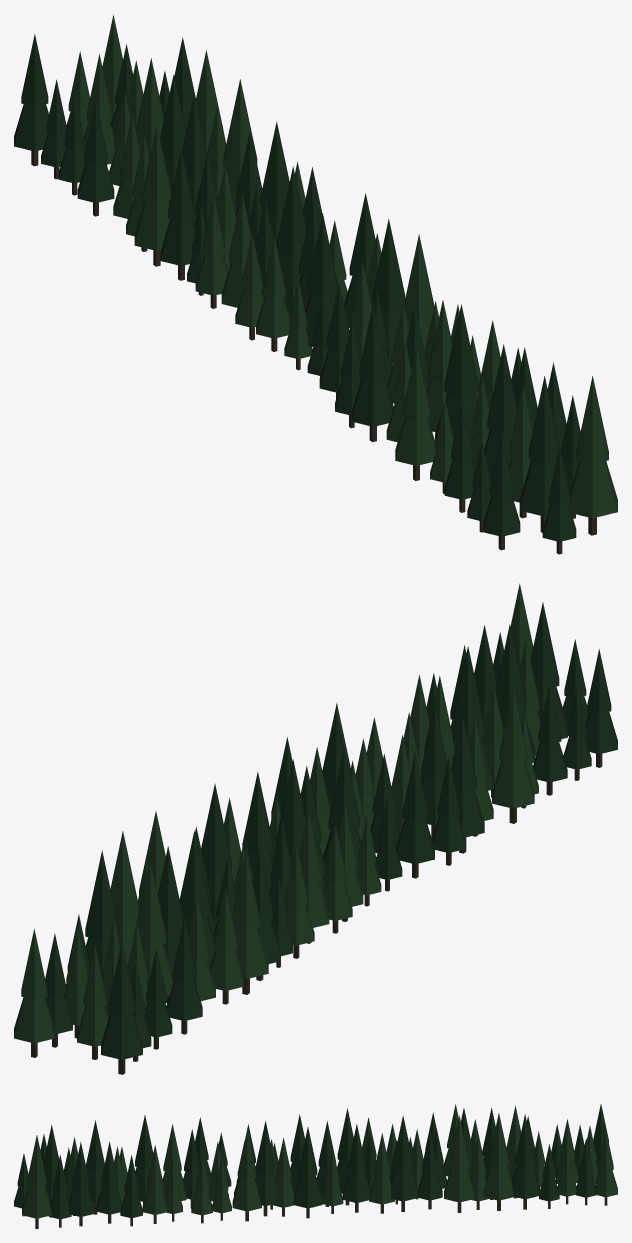
Rendered from forest_edge_15.glb.
3 renders of one model, top to bottom at view 1: azimuth 30°, elevation 25°; view 2: azimuth 150°, elevation 25°; view 3: azimuth 270°, elevation 25°, orthographic. The views are drawn at different scales.
Visible parts, largest first — view 1: chunk_0_0; view 2: chunk_0_0; view 3: chunk_0_0.
Boxes of the visible parts, x1=… form: chunk_0_0: x1=14, y1=14, x2=617, y2=554; chunk_0_0: x1=14, y1=583, x2=617, y2=1074; chunk_0_0: x1=14, y1=1104, x2=617, y2=1228.
Bounding box in the file's own units: 23.77 × 32.89 × 154.
